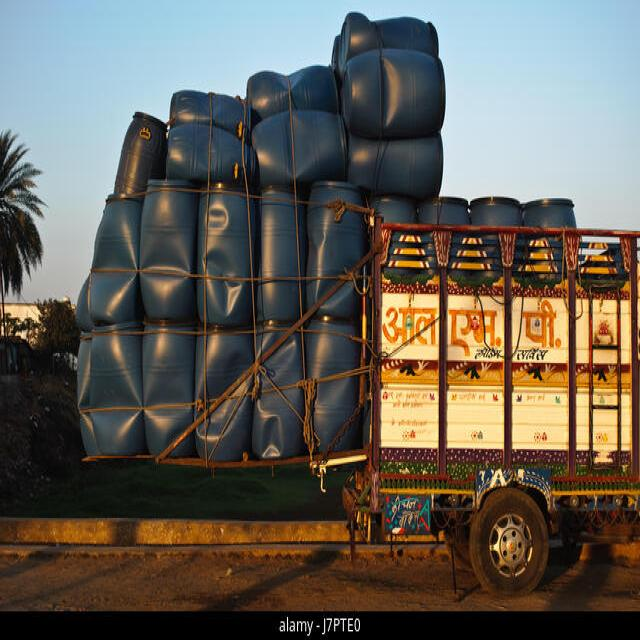goods: (76, 13, 573, 460)
truck: (348, 217, 640, 595)
